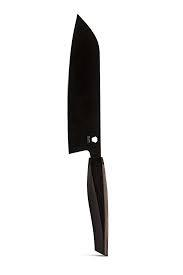Knife: (66, 13, 109, 255)
